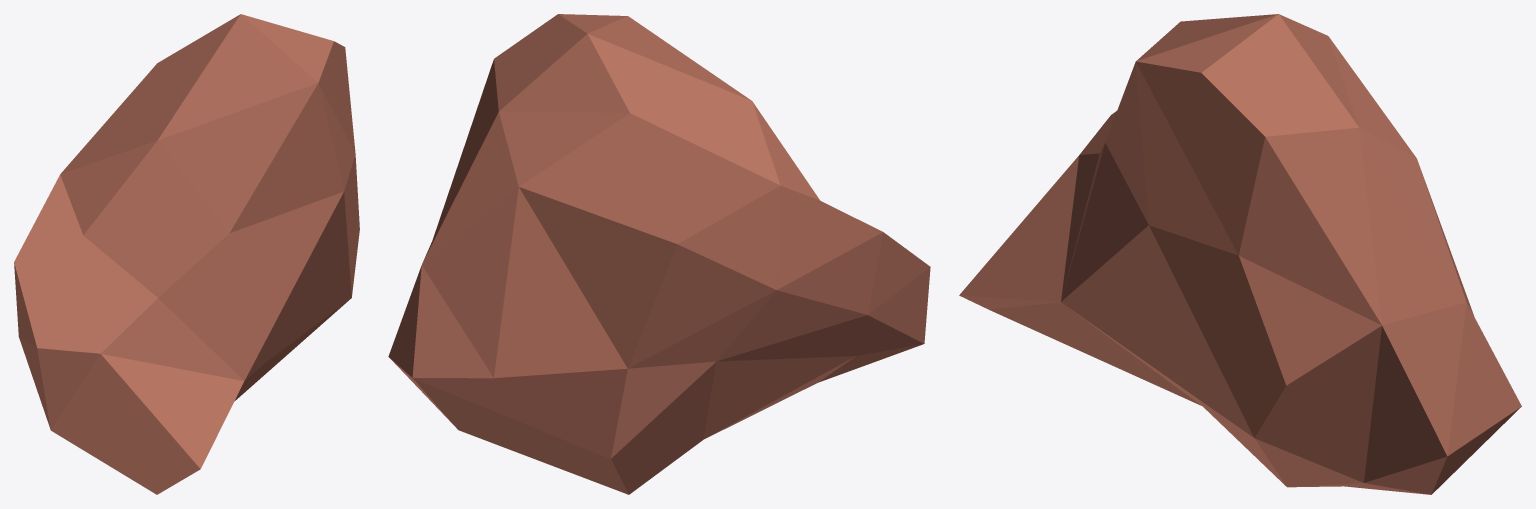
The model's file is Rock2.fbx.
3 views of the same model, side by side, from view 1: azimuth 30°, elevation 25°; view 2: azimuth 150°, elevation 25°; view 3: azimuth 270°, elevation 25° (orthographic). The views are drawn at different scales.
Visible parts, largest first — view 1: Rock2; view 2: Rock2; view 3: Rock2.
Boxes of the visible parts, box(x1,y1,x2,y2) form: Rock2: box(14, 14, 359, 494); Rock2: box(388, 14, 930, 494); Rock2: box(959, 14, 1521, 494).
Size of the model in its own units: 33.04 by 33.29 by 33.12.
